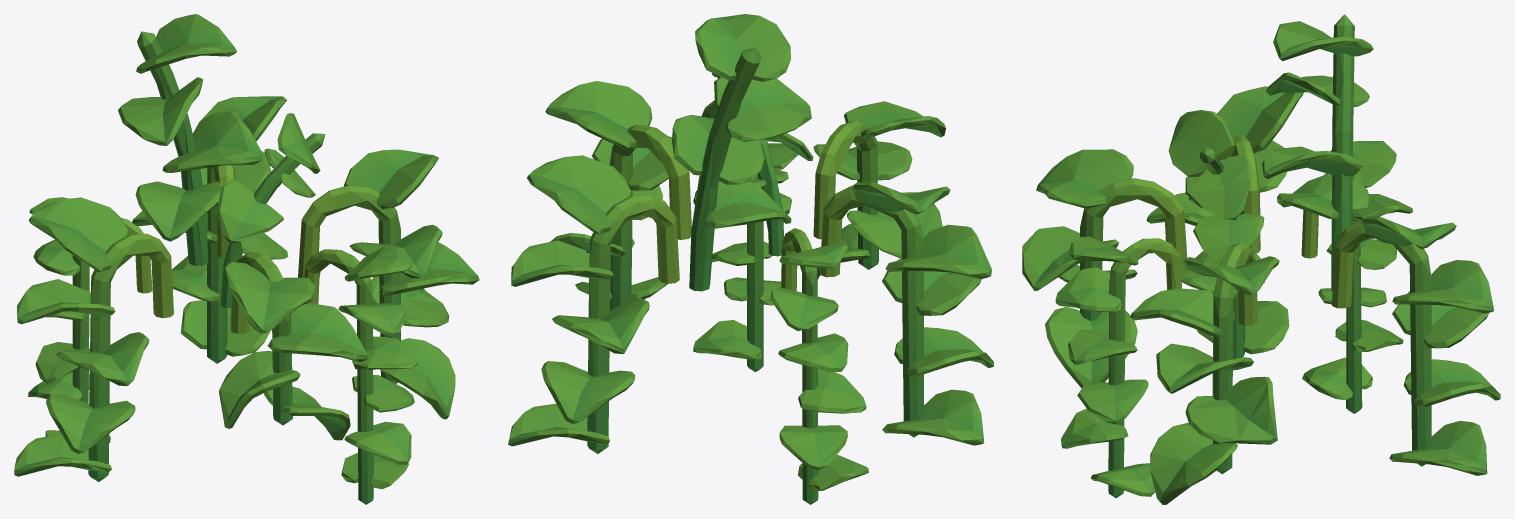
Rendered from trail-pothos.glb.
The picture shows the model from 3 angles, left to right: view 1: azimuth 30°, elevation 25°; view 2: azimuth 150°, elevation 25°; view 3: azimuth 270°, elevation 25°; orthographic projection. The views are drawn at different scales.
Parts seen in each view (by area): view 1: plant; view 2: plant; view 3: plant.
Part boxes in pixels (<box>): plant: <box>14,14,479,504</box>; plant: <box>508,14,993,504</box>; plant: <box>1022,14,1500,504</box>.
Size of the model in its own units: 2.52 by 2.39 by 2.4.
